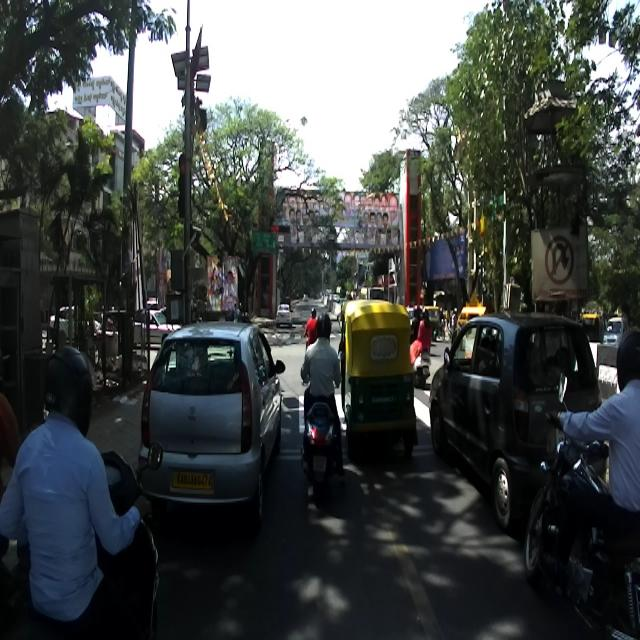autorickshaw: (337, 301, 417, 455)
car: (428, 314, 602, 534), (137, 321, 285, 527)
motorcycle: (524, 370, 640, 636)
scooter: (0, 441, 163, 639), (299, 348, 343, 504)
